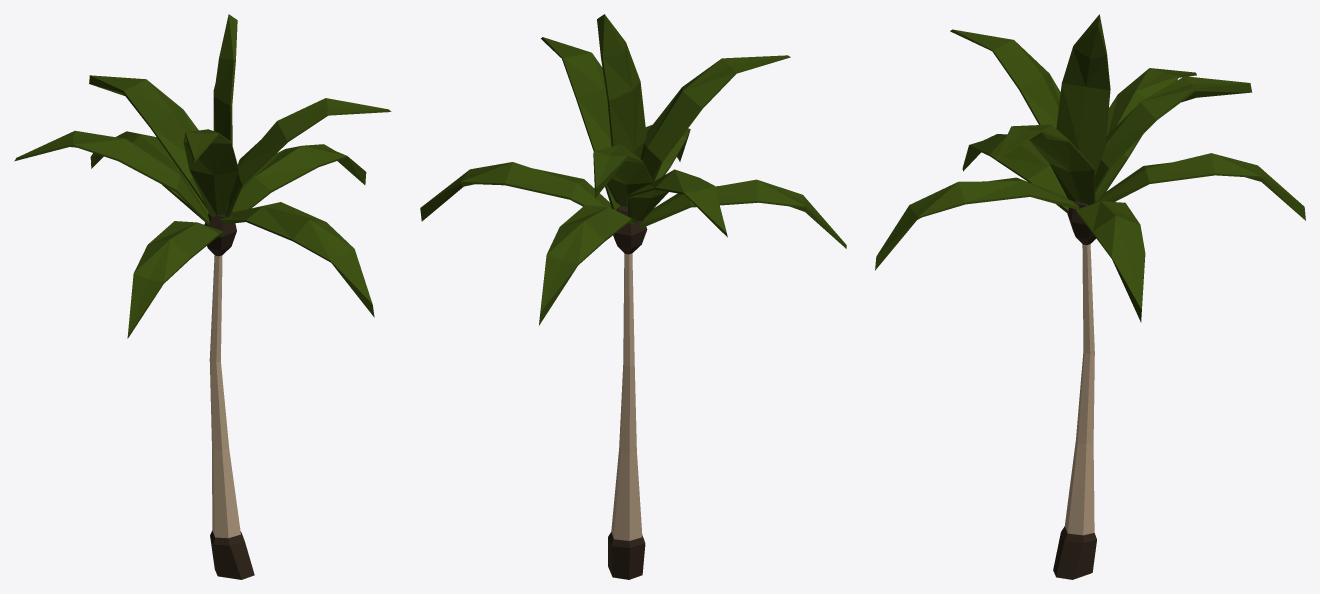
Rendered from palm_tree_3.FBX.
The picture shows the model from 3 angles, left to right: view 1: azimuth 30°, elevation 25°; view 2: azimuth 150°, elevation 25°; view 3: azimuth 270°, elevation 25°; orthographic projection. The views are drawn at different scales.
Parts seen in each view (by area): view 1: palm_tree_3; view 2: palm_tree_3; view 3: palm_tree_3.
Boxes of the visible parts, <box> form: palm_tree_3: <box>14,14,391,579</box>; palm_tree_3: <box>420,14,846,579</box>; palm_tree_3: <box>875,14,1305,579</box>.
Bounding box in the file's own units: 615 × 986 × 687.
